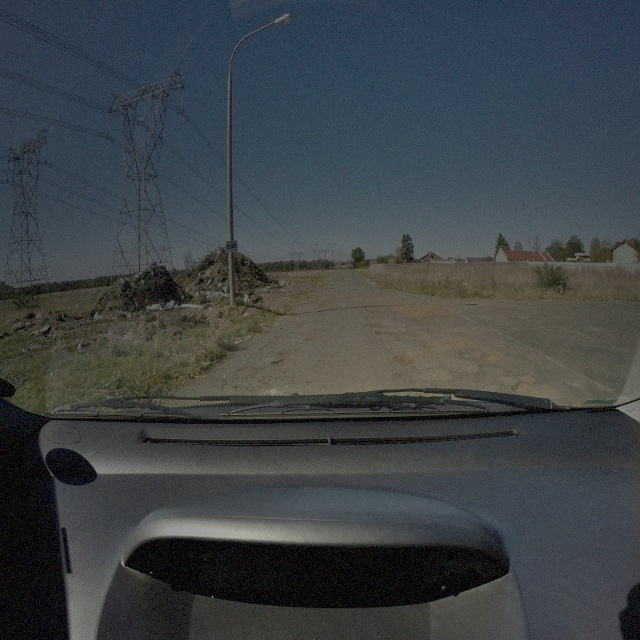pothole: (423, 338, 448, 354), (393, 352, 416, 368), (513, 379, 533, 396), (375, 329, 403, 341), (481, 351, 502, 364), (270, 356, 293, 367), (305, 334, 322, 343), (367, 314, 378, 323)
